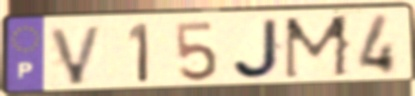1: (126, 21, 152, 85)
4: (355, 11, 400, 79)
5: (173, 19, 221, 84)
J: (229, 17, 285, 82)
M: (281, 12, 353, 82)
V: (47, 23, 107, 88)
